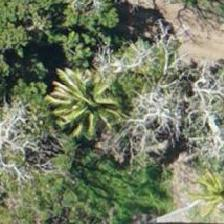coconut_tree: (35, 56, 125, 146), (167, 136, 223, 223)
